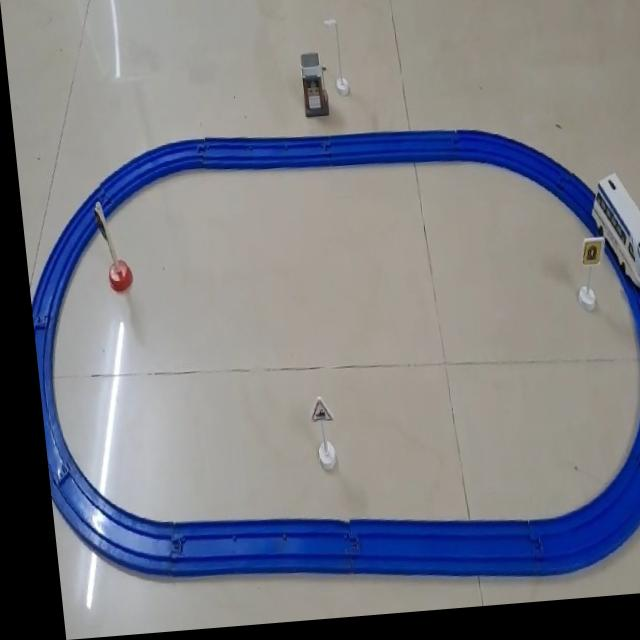bus: (583, 178, 640, 304)
